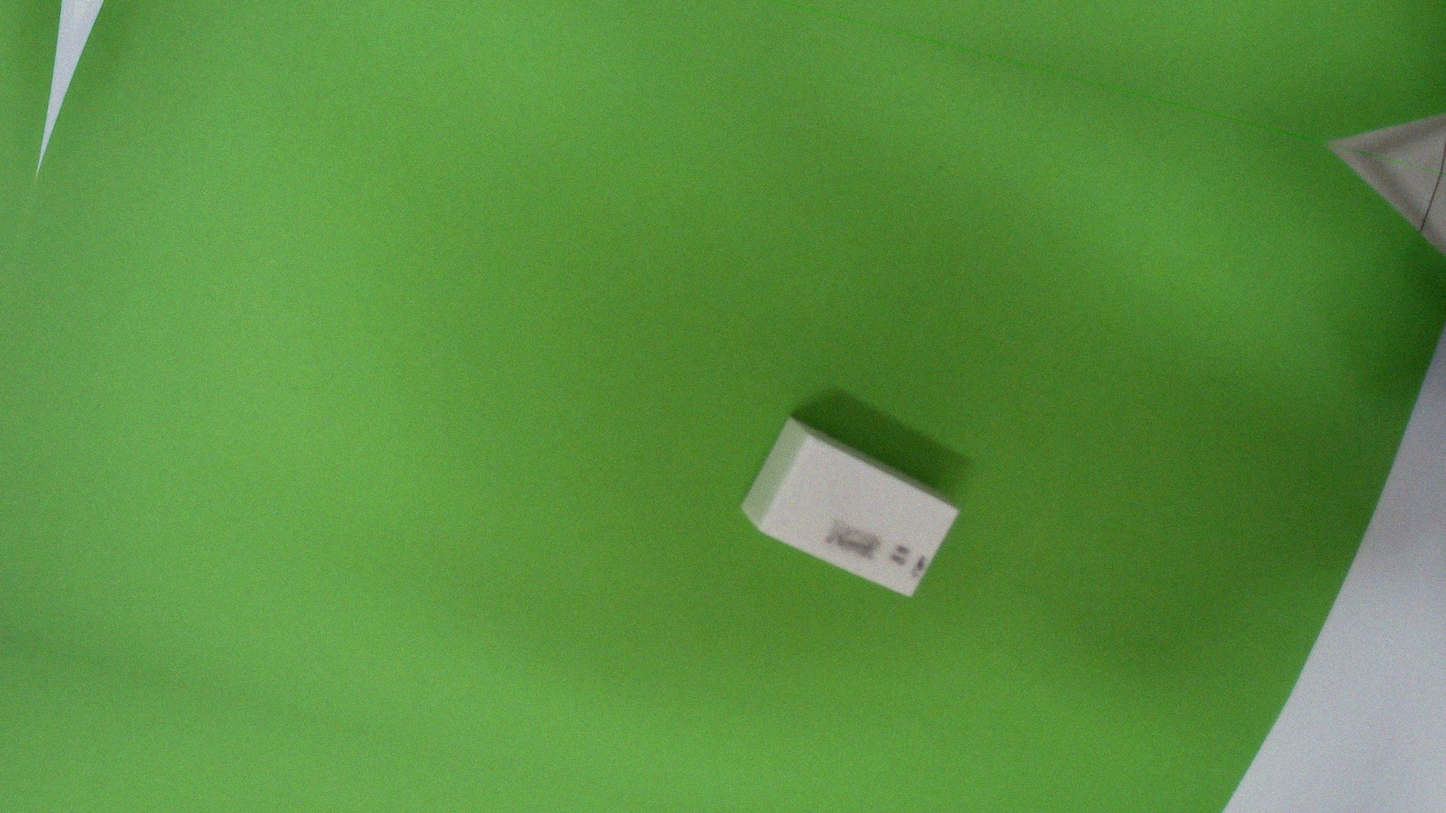gom: (729, 403, 971, 611)
